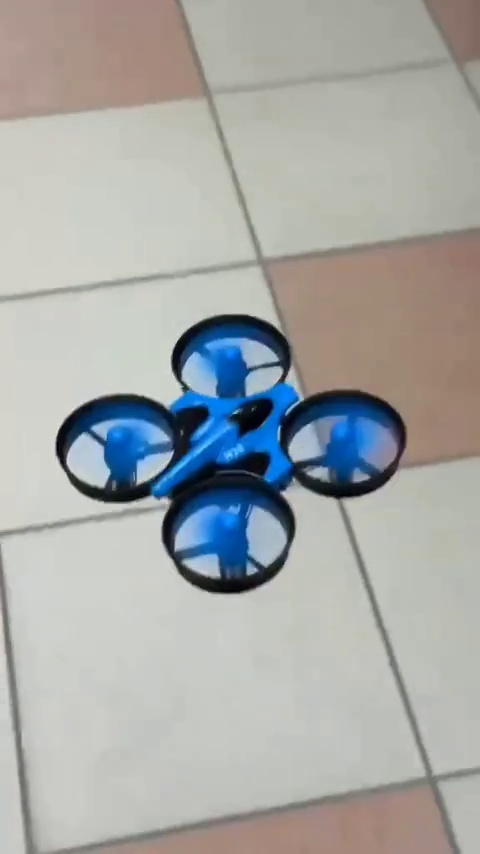drone: (60, 313, 402, 593)
